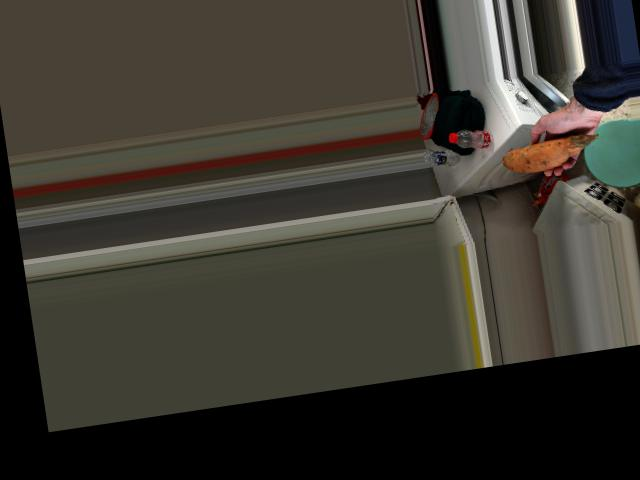sweet_potato: (505, 136, 613, 179)
